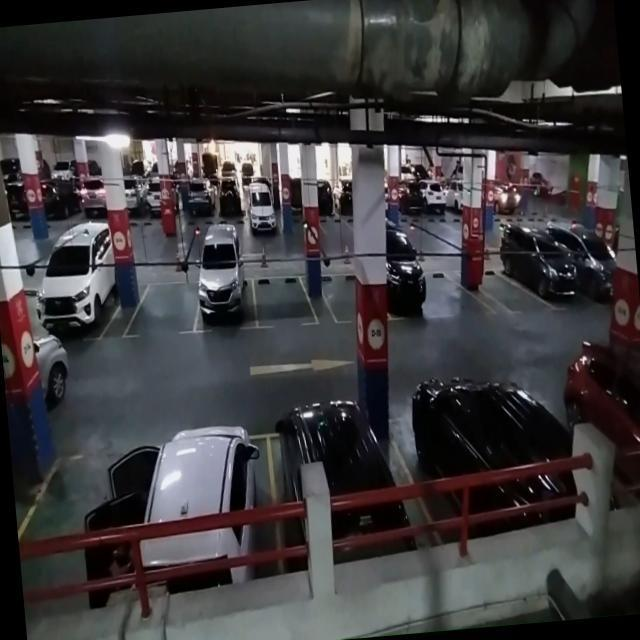Car: (265, 406, 421, 578), (135, 426, 283, 587), (31, 242, 120, 346), (191, 248, 258, 335)
Vacant: (127, 275, 199, 339), (251, 270, 316, 331), (320, 268, 363, 326)
